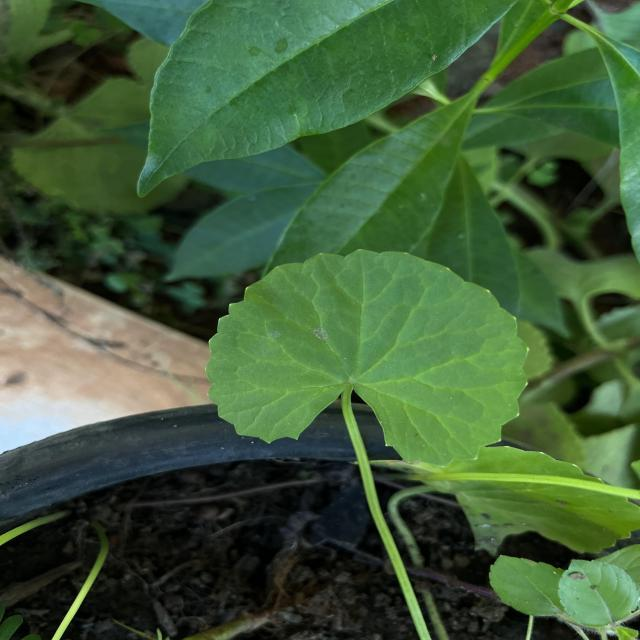Centella asiatica: (201, 244, 534, 472)
